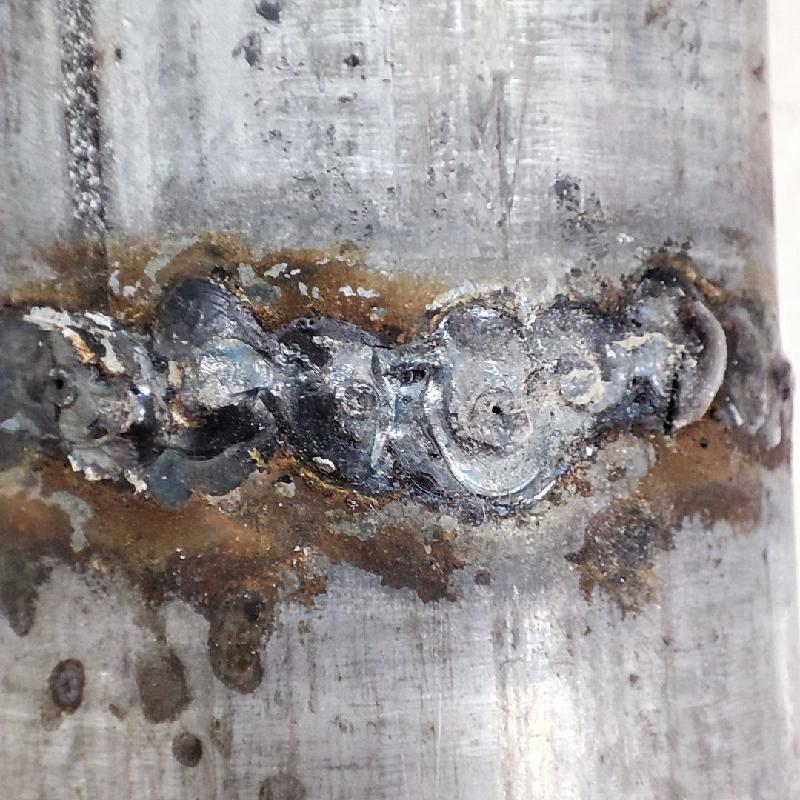Surface_pores: (404, 294, 626, 502), (466, 381, 528, 454), (33, 360, 92, 406)
wrong_size: (631, 280, 799, 454)
